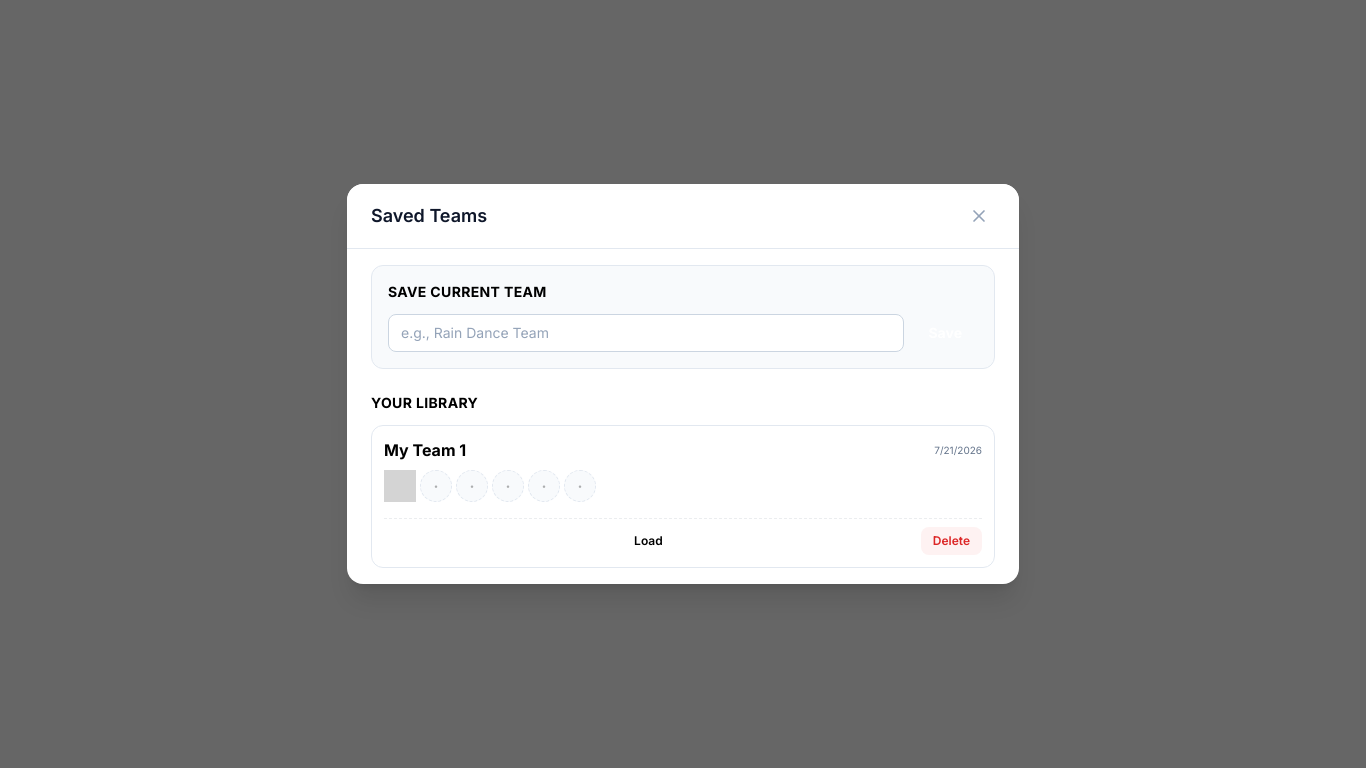
SavedTeamsModal › requires confirmation to delete a team
// First click: Should NOT delete, but change text
Click the button with aria-label "Delete team" at (951, 541), box top-left (921, 527), bottom-right (982, 555)
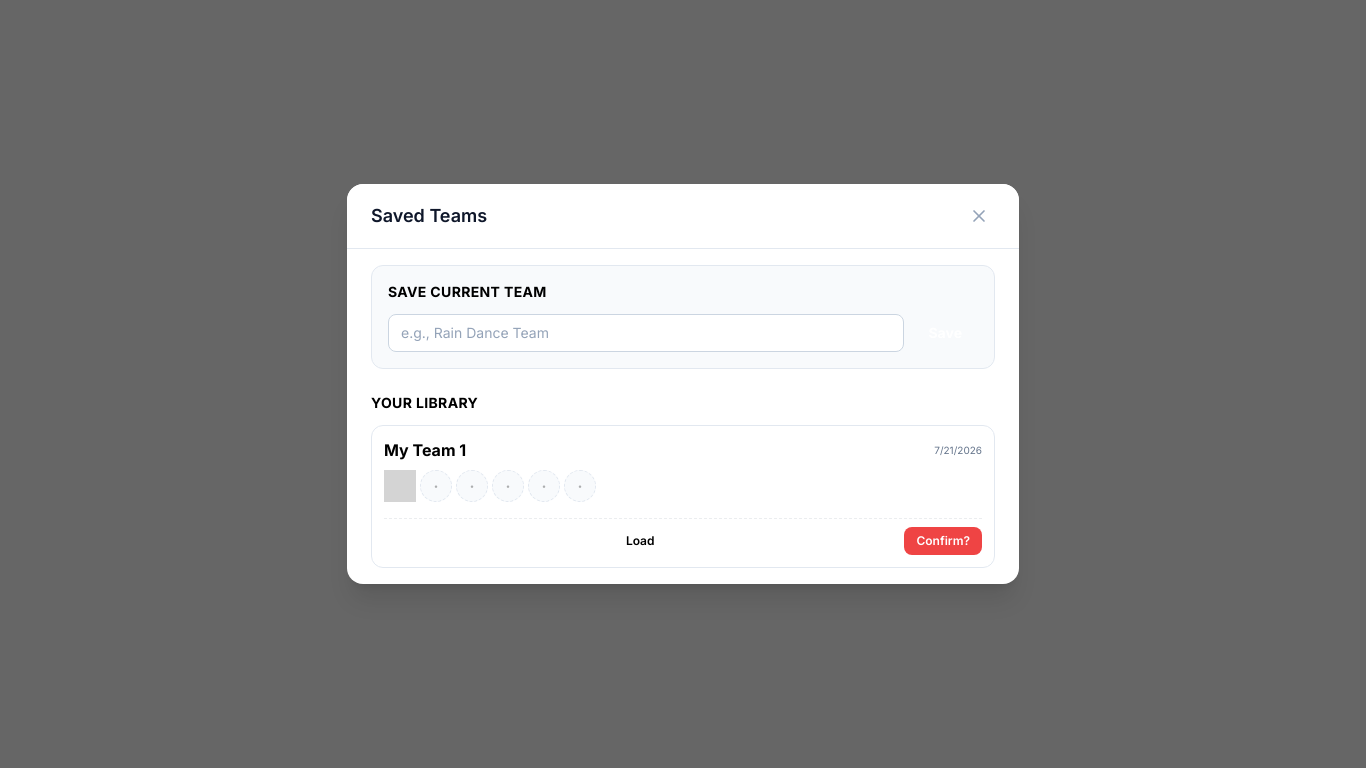
Expected: the button "Confirm?" is shown
Expected: the button with aria-label "Confirm deletion" is shown
// Second click: Should delete via Zustand store
Click the button with aria-label "Confirm deletion" at (943, 541), box top-left (904, 527), bottom-right (982, 555)
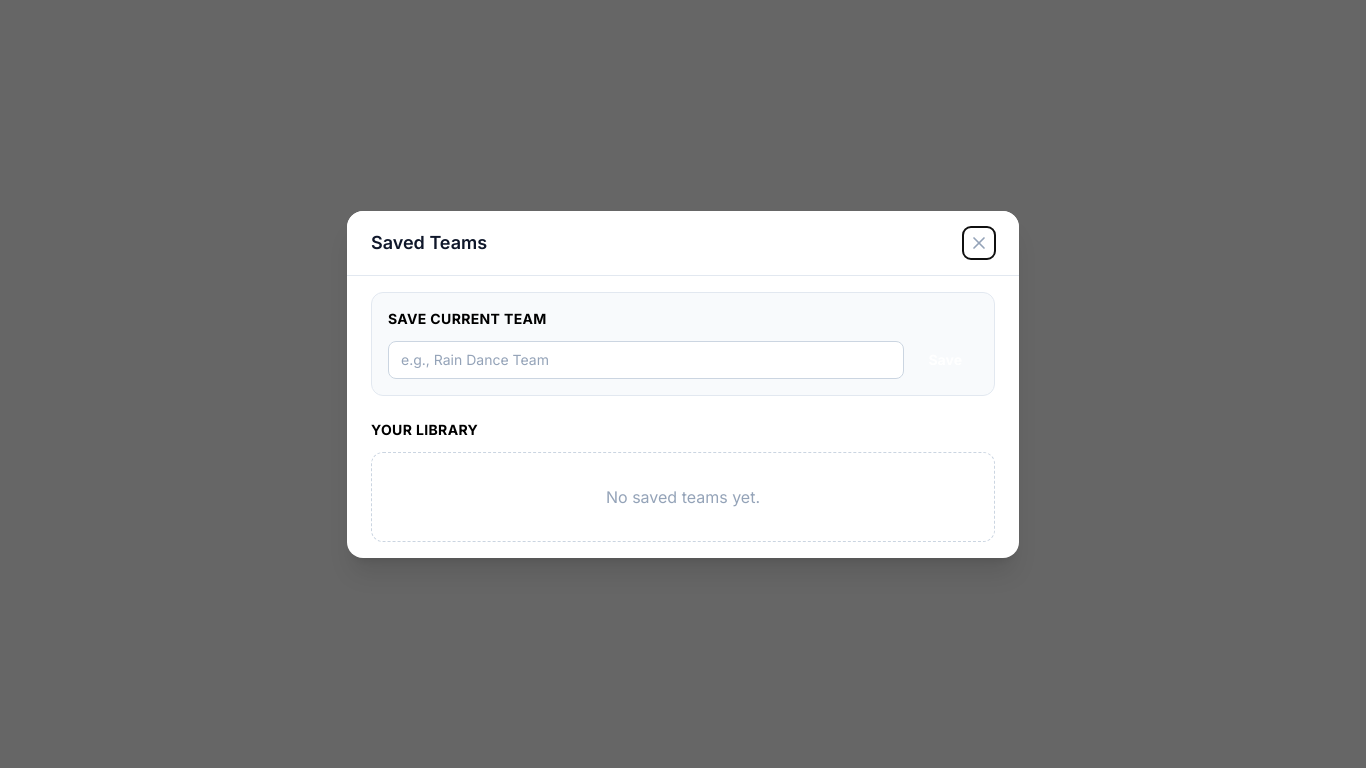
Expected: the text "My Team 1" is gone
